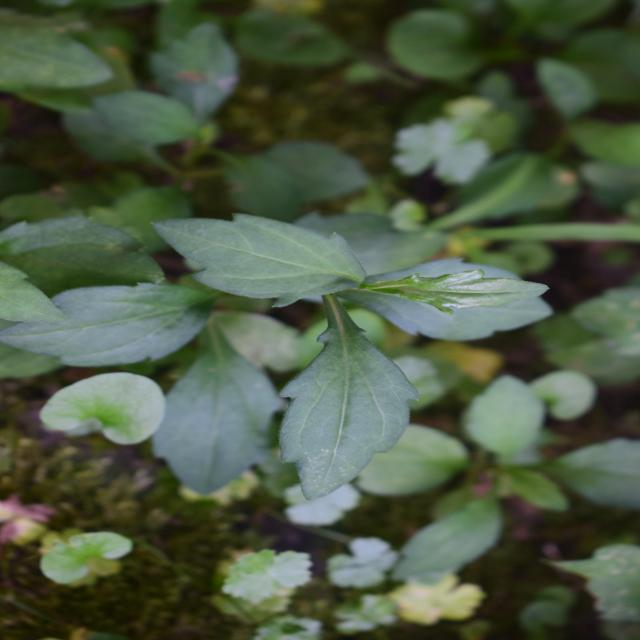Indian aster: (204, 93, 456, 526)
